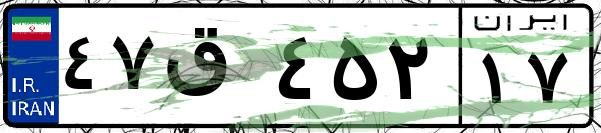1: (475, 38, 525, 113)
2: (385, 28, 445, 110)
4: (270, 28, 330, 110), (57, 26, 110, 100)
5: (330, 28, 385, 110)
7: (525, 38, 570, 115), (110, 28, 158, 98)
ق: (158, 20, 270, 120)
